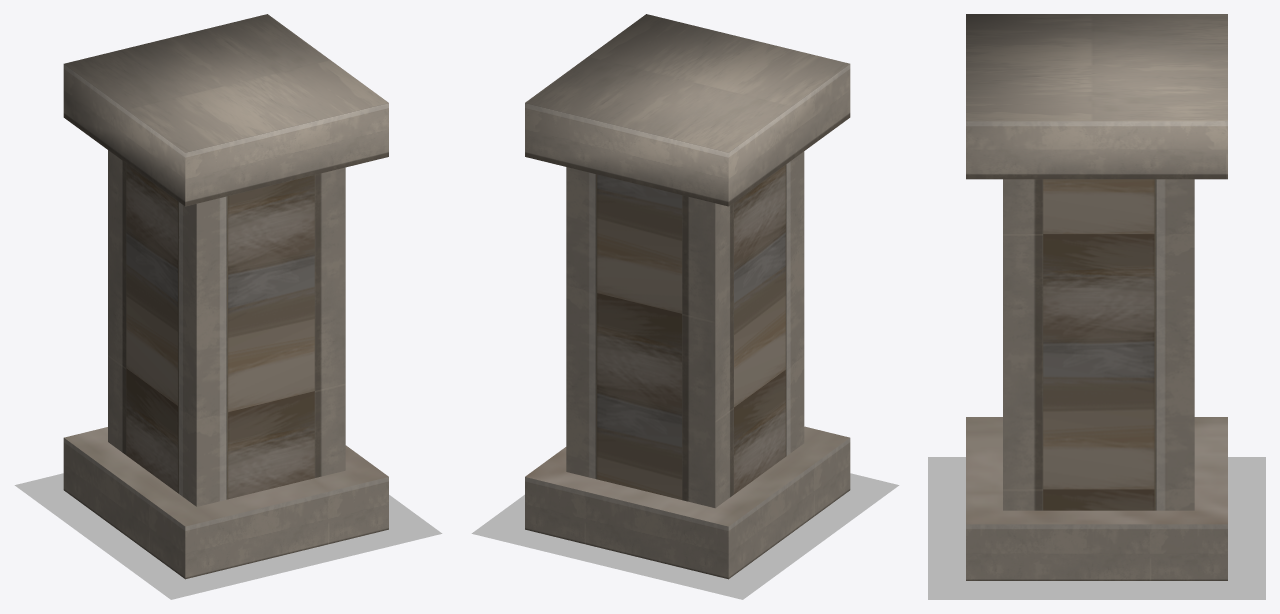
The model's file is LB_Pillar.fbx.
The picture shows the model from 3 angles, left to right: view 1: azimuth 30°, elevation 25°; view 2: azimuth 150°, elevation 25°; view 3: azimuth 270°, elevation 25°; orthographic projection. The views are drawn at different scales.
Visible parts, largest first — view 1: LB_Pillar, shadow; view 2: LB_Pillar, shadow; view 3: LB_Pillar, shadow.
Part boxes in pixels (<box>): LB_Pillar: <box>63,14,388,579</box>; shadow: <box>14,473,442,599</box>; LB_Pillar: <box>525,14,850,579</box>; shadow: <box>471,473,899,599</box>; LB_Pillar: <box>966,14,1227,580</box>; shadow: <box>928,457,1265,599</box>.
Size of what is drawn, in the model's own units: 163 by 245 by 163.
